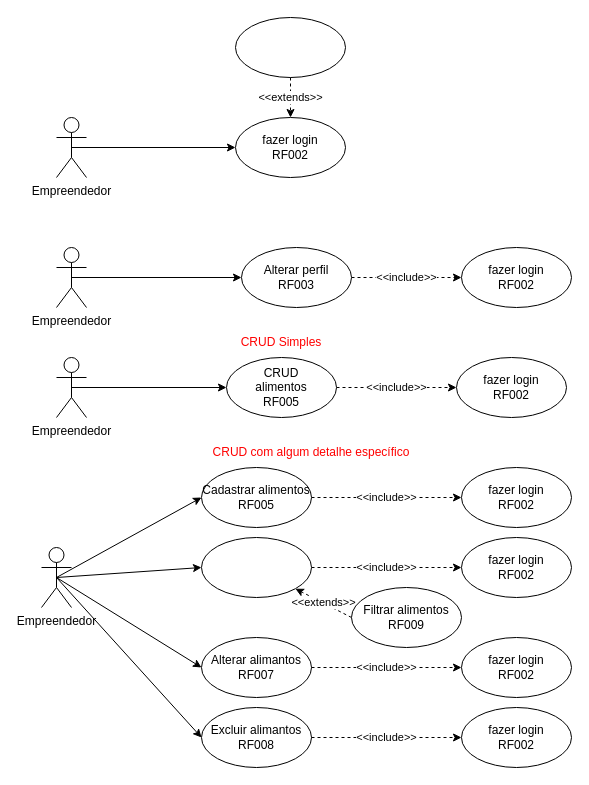
Some shapes in this 589 by 785 pixel diagram are drawn without their labels. Each missing label, with the centre of its shape:
"Cadastrar-se RF001" belongs at (290,47).
"Listar alimentos RF006" belongs at (256,567).
